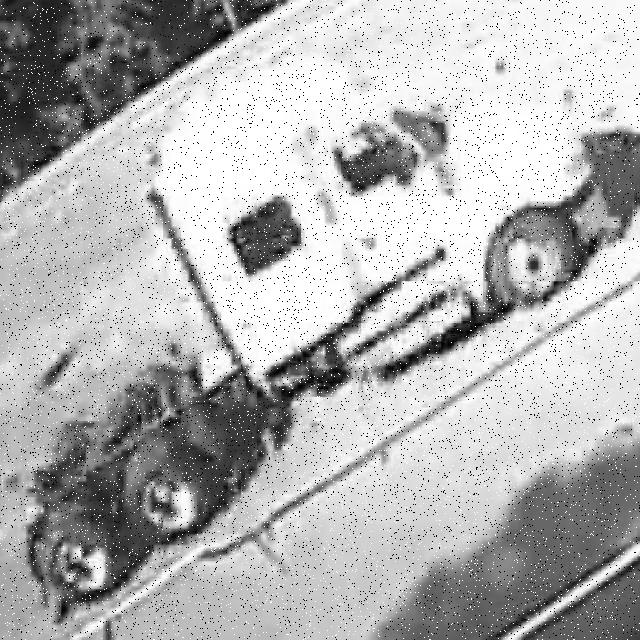Box Truck: (26, 52, 619, 625)
